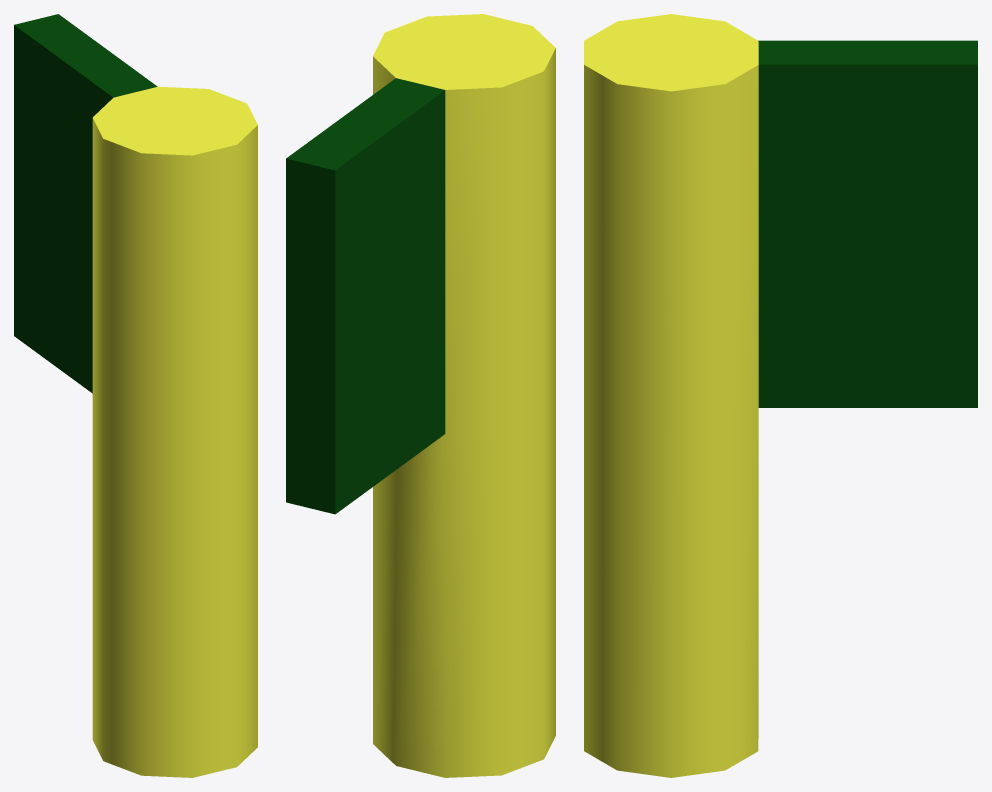
File: GreenFlag.FBX
3 views of the same model, side by side, from view 1: azimuth 30°, elevation 25°; view 2: azimuth 150°, elevation 25°; view 3: azimuth 270°, elevation 25° (orthographic). The views are drawn at different scales.
Parts seen in each view (by area): view 1: Cylinder001; view 2: Cylinder001; view 3: Cylinder001.
Part boxes in pixels (x1=…): Cylinder001: x1=14, y1=14, x2=257, y2=777; Cylinder001: x1=286, y1=14, x2=555, y2=777; Cylinder001: x1=584, y1=14, x2=977, y2=777.
Bounding box in the file's own units: 1.67 × 6.9 × 3.59.
